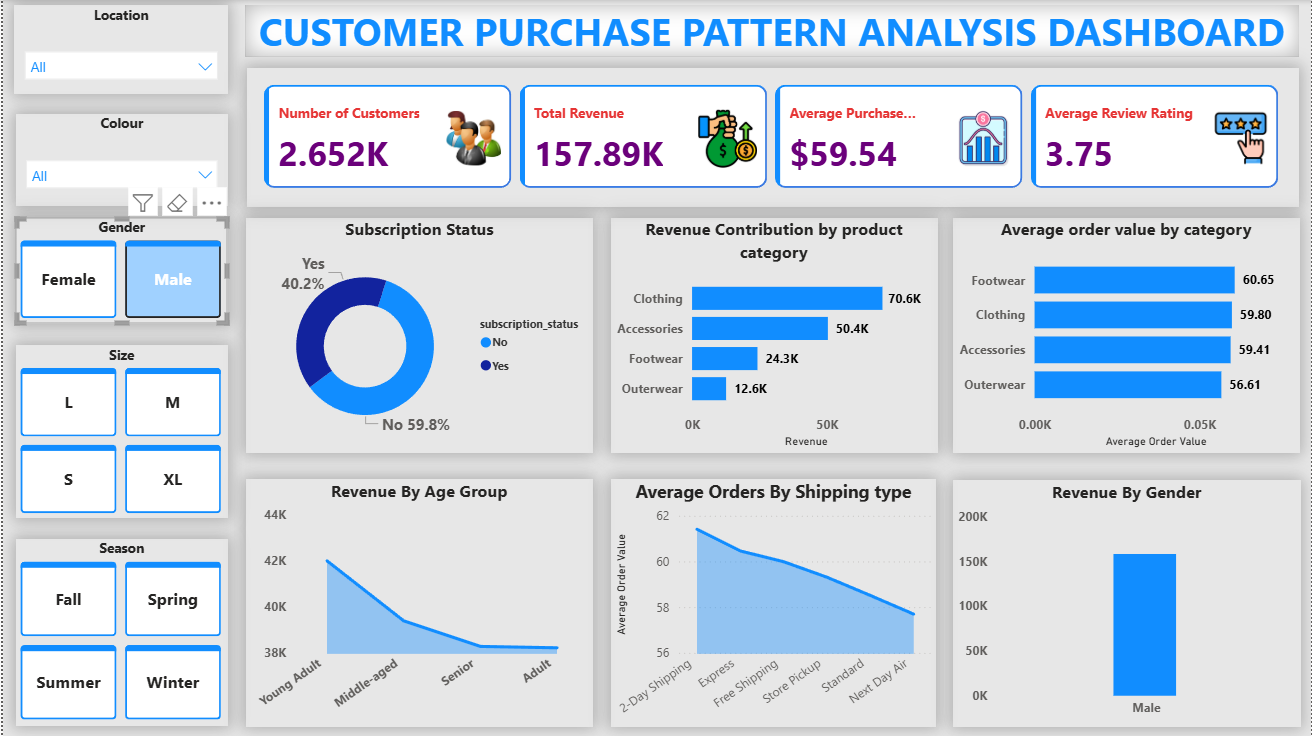

The dashboard page shown, as its layout file describes it:
{"tool":"powerbi","page":{"name":"Page 1","canvas":[1280,720],"ordinal":0},"visuals":[{"type":"cardVisual","fields":{"Data":["cleaned Customer Behaviour Data.Number of Customers","cleaned Customer Behaviour Data.Total Revenue","cleaned Customer Behaviour Data.Average Purchase Ammount","cleaned Customer Behaviour Data.Average Review Rating"]},"box":[238,66,1029.6,135.8],"z":0},{"type":"donutChart","title":"Subscription Status","fields":{"Y":["CountNonNull(cleaned Customer Behaviour Data.customer_id)"],"Category":["cleaned Customer Behaviour Data.subscription_status"]},"box":[237.4,212.7,340.3,230.5],"z":1000},{"type":"barChart","title":"Revenue Contribution by product category","fields":{"Category":["cleaned Customer Behaviour Data.category"],"Y":["Sum(cleaned Customer Behaviour Data.purchase_amount)"]},"box":[594.2,212.7,319.7,230.5],"z":2000},{"type":"clusteredBarChart","title":"Average order value by category","fields":{"Category":["cleaned Customer Behaviour Data.category"],"Y":["cleaned Customer Behaviour Data.Average Order Value"]},"box":[929,212.7,338.9,230.5],"z":3000},{"type":"stackedAreaChart","title":"Revenue By Age Group","fields":{"Category":["cleaned Customer Behaviour Data.age_group"],"Y":["Sum(cleaned Customer Behaviour Data.purchase_amount)"]},"box":[237.5,468.8,340,242.5],"z":4000},{"type":"stackedAreaChart","title":"Average Orders By  Shipping type","fields":{"Y":["cleaned Customer Behaviour Data.Average Order Value"],"Category":["cleaned Customer Behaviour Data.shipping_type"]},"box":[593.8,468.8,318.8,242.5],"z":5000},{"type":"columnChart","title":"Revenue By Gender","fields":{"Category":["cleaned Customer Behaviour Data.gender"],"Y":["Sum(cleaned Customer Behaviour Data.purchase_amount)"]},"box":[928.8,470,340,241.2],"z":6000},{"type":"advancedSlicerVisual","title":"Season","fields":{"Values":["cleaned Customer Behaviour Data.season"]},"box":[12.2,527,207.9,183.4],"z":7000},{"type":"advancedSlicerVisual","title":"Size","fields":{"Values":["cleaned Customer Behaviour Data.size"]},"box":[12.2,337.5,207.9,170],"z":8000},{"type":"advancedSlicerVisual","title":"Gender","fields":{"Values":["cleaned Customer Behaviour Data.gender"]},"box":[12.2,212.8,207.9,103.9],"z":9000},{"type":"slicer","title":"Colour","fields":{"Values":["cleaned Customer Behaviour Data.color"]},"box":[12.2,111.3,207.9,90.5],"z":10000},{"type":"slicer","title":"Location","fields":{"Values":["cleaned Customer Behaviour Data.location"]},"box":[11,4.9,209.1,86.8],"z":11000},{"type":"textbox","title":"CUSTOMER PURCHASE PATTERN ANALYSIS DASHBOARD","box":[237.1,4.3,1030,50],"z":12000}]}

Visuals, with their boxes in screenshot pixels (x1, y1, x2, y2), scaled from the page's 1280x720 canvas onto the 1312x736 screenshot:
cardVisual - cleaned Customer Behaviour Data.Number of Customers x cleaned Customer Behaviour Data.Total Revenue: box=[244, 67, 1299, 206]
"Subscription Status" donutChart: box=[243, 217, 592, 453]
"Revenue Contribution by product category" barChart: box=[609, 217, 937, 453]
"Average order value by category" clusteredBarChart: box=[952, 217, 1300, 453]
"Revenue By Age Group" stackedAreaChart: box=[243, 479, 592, 727]
"Average Orders By  Shipping type" stackedAreaChart: box=[609, 479, 935, 727]
"Revenue By Gender" columnChart: box=[952, 480, 1301, 727]
"Season" advancedSlicerVisual: box=[13, 539, 226, 726]
"Size" advancedSlicerVisual: box=[13, 345, 226, 519]
"Gender" advancedSlicerVisual: box=[13, 218, 226, 324]
"Colour" slicer: box=[13, 114, 226, 206]
"Location" slicer: box=[11, 5, 226, 94]
"CUSTOMER PURCHASE PATTERN ANALYSIS DASHBOARD" textbox: box=[243, 4, 1299, 56]
